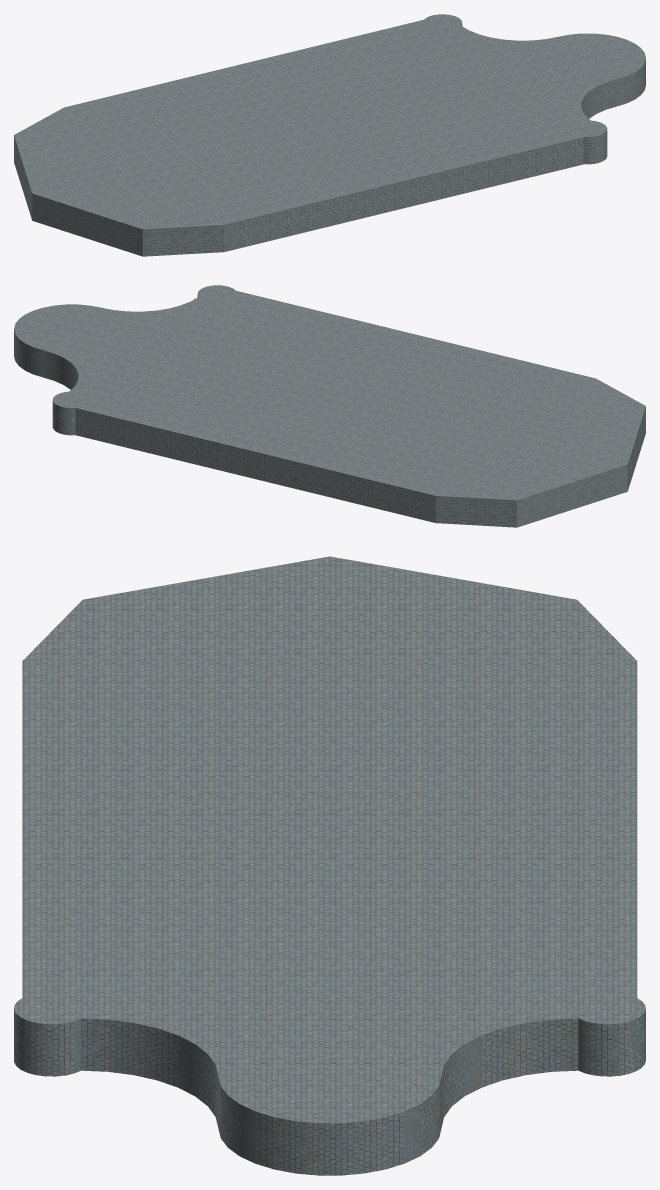
File: socle.glb
3 views of the same model, one above another, from view 1: azimuth 30°, elevation 25°; view 2: azimuth 150°, elevation 25°; view 3: azimuth 270°, elevation 25° (orthographic). The views are drawn at different scales.
Parts seen in each view (by area): view 1: socle; view 2: socle; view 3: socle.
Part boxes in pixels (left/top/right/bottom): socle: left=14, top=14, right=645, bottom=256; socle: left=14, top=285, right=645, bottom=527; socle: left=14, top=556, right=645, bottom=1175.
Size of the model in its own units: 116 by 5 by 54.71.
Materials: 1 (1 with a texture image).
